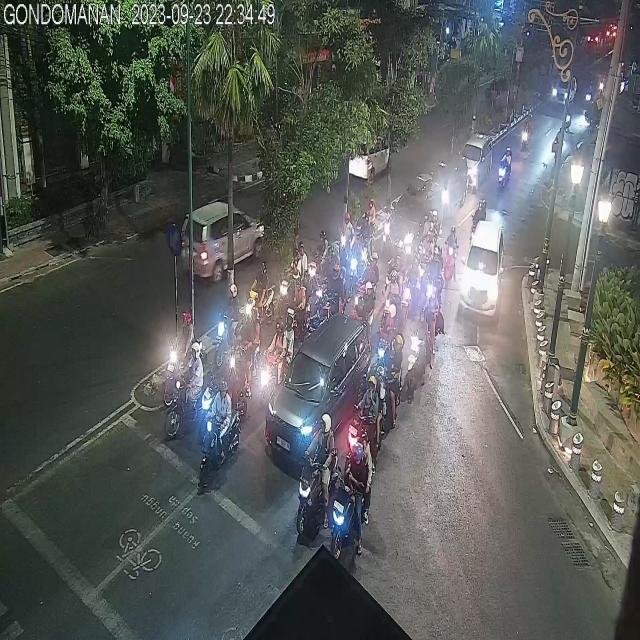car: (265, 310, 372, 468), (178, 198, 267, 281), (382, 175, 442, 261), (459, 220, 505, 321), (431, 155, 467, 216), (347, 137, 393, 181), (459, 132, 492, 188), (551, 74, 576, 105)
motorcycle: (327, 433, 373, 559), (293, 407, 336, 540), (169, 338, 207, 445), (201, 383, 241, 484), (165, 307, 202, 407), (261, 312, 297, 408), (228, 304, 260, 408), (347, 369, 377, 470), (213, 284, 244, 368), (278, 237, 308, 309), (408, 312, 432, 397), (246, 258, 273, 332), (352, 252, 380, 306), (445, 227, 457, 283), (498, 146, 512, 192), (520, 112, 532, 151)
